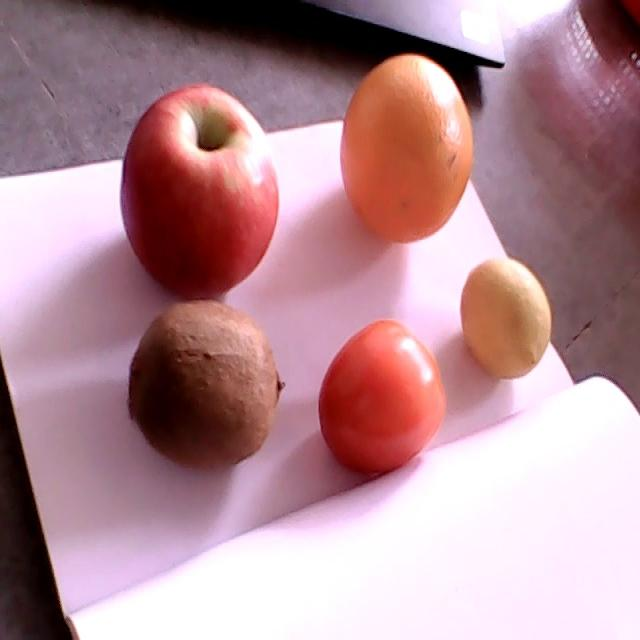apple: (120, 85, 280, 300)
kiwi: (127, 300, 288, 473)
lemon: (460, 259, 552, 381)
orange: (340, 54, 473, 246)
tomato: (319, 320, 446, 478)
